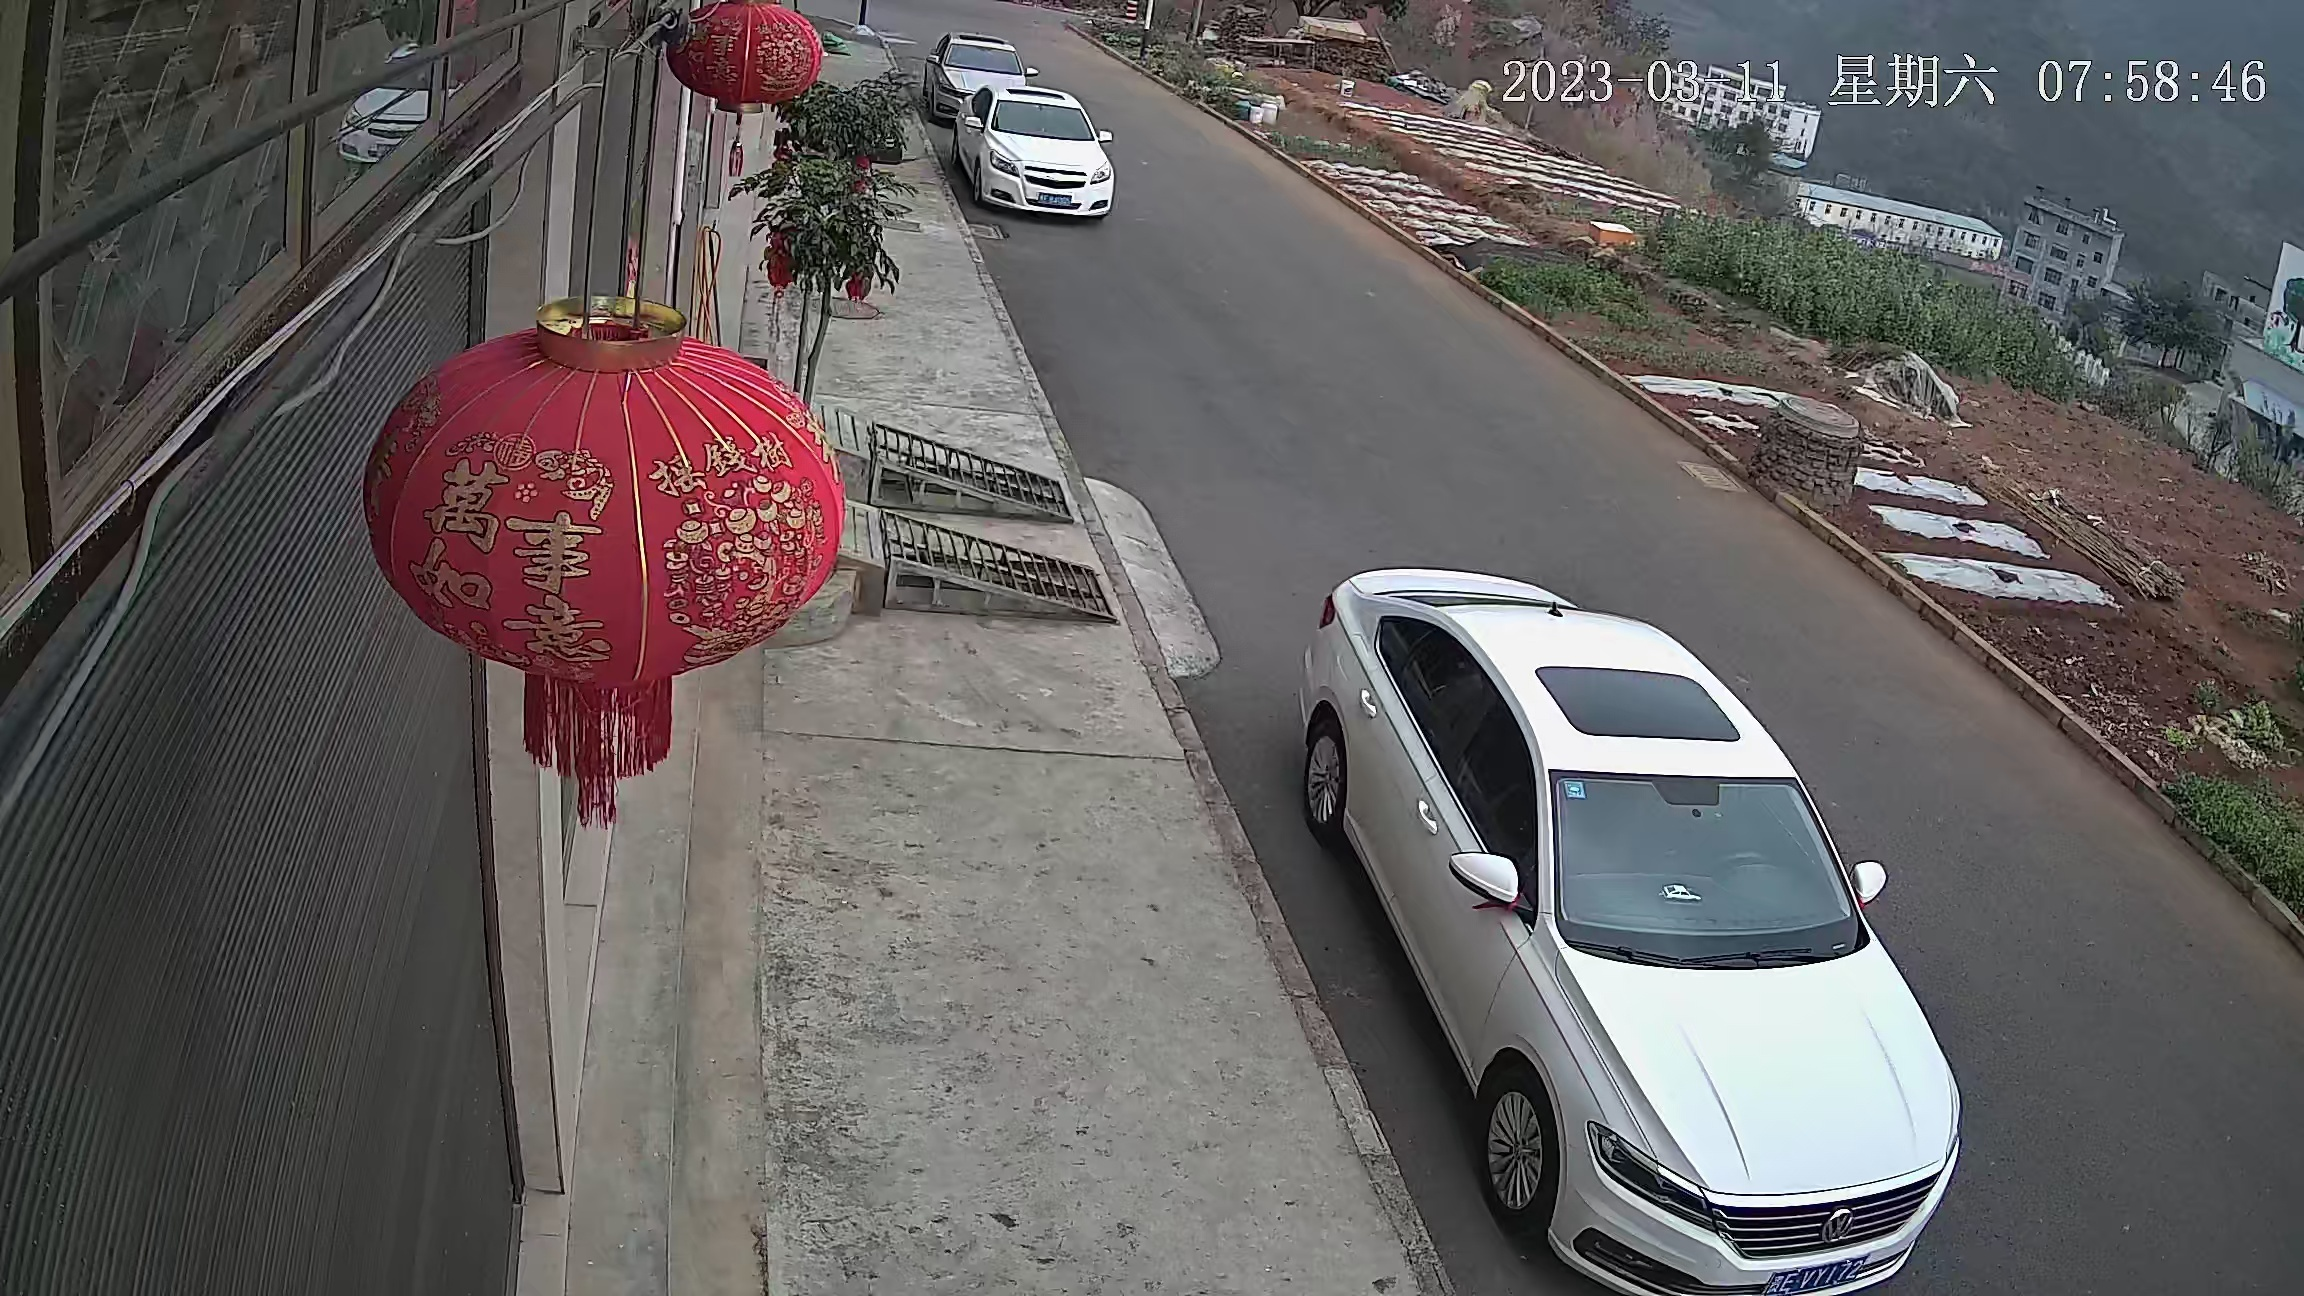sedan: (1283, 560, 1978, 1290), (951, 78, 1120, 225), (916, 28, 1030, 101)
